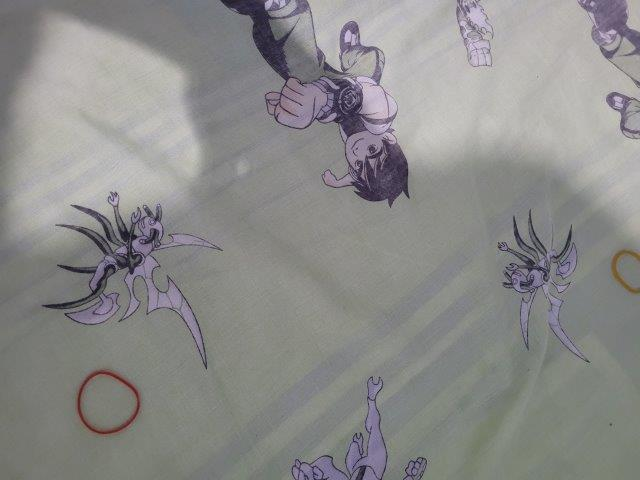karet: (77, 370, 140, 434), (609, 248, 640, 293)
